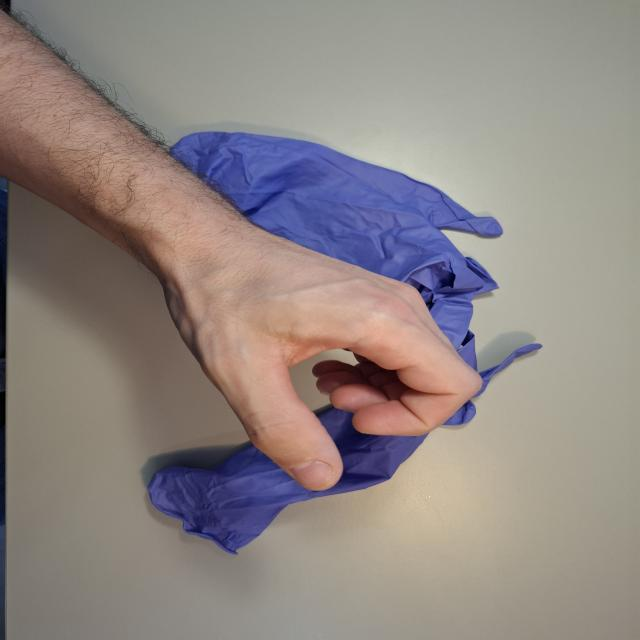glove_off: (142, 209, 491, 493)
